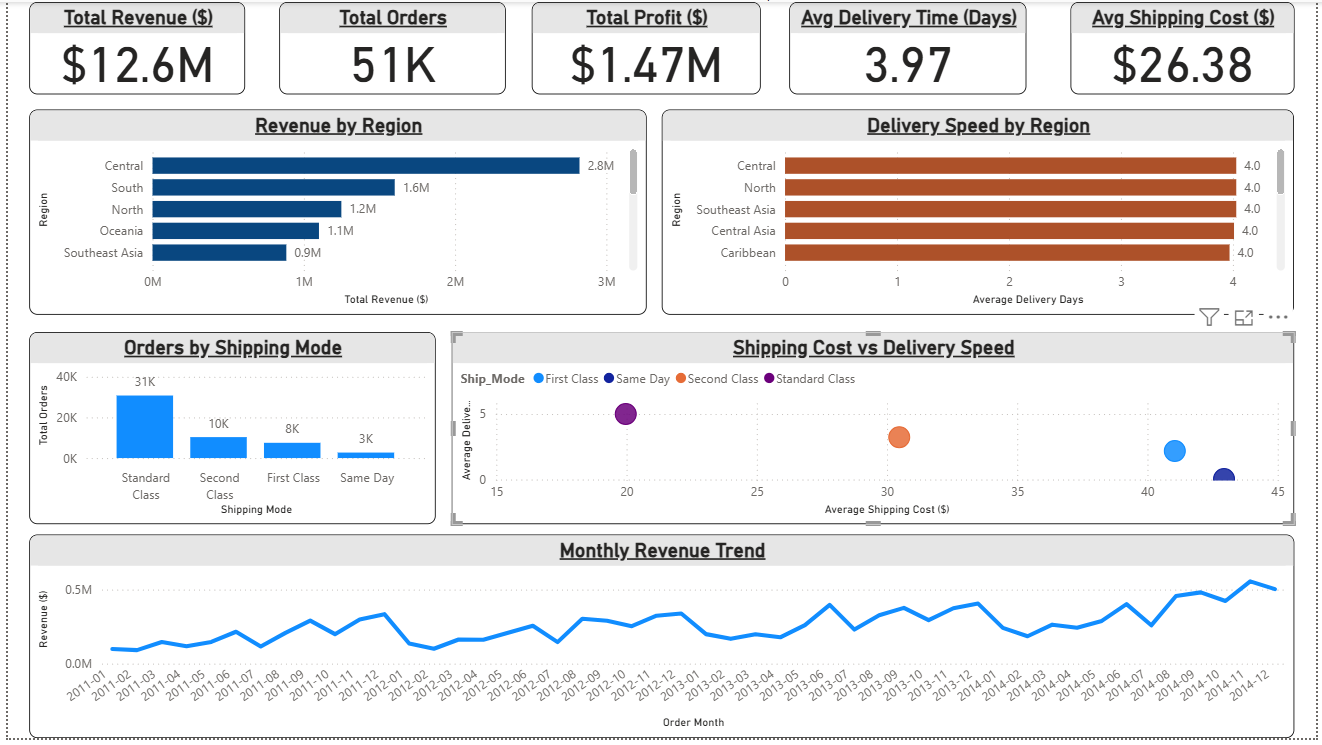

What the dashboard file says about the page in this screenshot:
{"tool":"powerbi","page":{"name":"Global Logistics Performance Overview","canvas":[1280,720],"ordinal":0},"visuals":[{"type":"card","title":"Total Revenue ($)","fields":{"Values":["Sum(KPIs.Total_Revenue)"]},"box":[20.8,0,211.6,90.5],"z":0},{"type":"card","title":"Total Orders","fields":{"Values":["Sum(KPIs.Total_Orders)"]},"box":[265.4,0,221.3,90.5],"z":1000},{"type":"card","title":"Total Profit ($)","fields":{"Values":["Sum(KPIs.Total_Profit)"]},"box":[512.4,0,223.8,90.5],"z":2000},{"type":"card","title":"Avg Delivery Time (Days)","fields":{"Values":["Sum(KPIs.Avg_Delivery_Time)"]},"box":[764.3,0,232.3,90.5],"z":3000},{"type":"card","title":"Avg Shipping Cost ($)","fields":{"Values":["Sum(KPIs.Avg_Shipping_Cost)"]},"box":[1039.4,0,218.9,90.5],"z":4000},{"type":"clusteredBarChart","title":"Revenue by Region","fields":{"Category":["RegionPerformance.Region"],"Y":["Sum(RegionPerformance.Revenue)"]},"box":[20.8,105.2,604.1,200.5],"z":5000},{"type":"clusteredBarChart","title":"Delivery Speed by Region","fields":{"Category":["RegionPerformance.Region"],"Y":["Sum(RegionPerformance.Avg_Delivery_Time)"]},"box":[639.5,105.2,618.8,200.5],"z":6000},{"type":"clusteredColumnChart","title":"Orders by Shipping Mode","fields":{"Category":["ShippingAnalysis.Ship_Mode"],"Y":["Sum(ShippingAnalysis.Orders)"]},"box":[20.8,322.8,397.4,188.3],"z":7000},{"type":"scatterChart","title":"Shipping Cost vs Delivery Speed","fields":{"X":["ShippingAnalysis.Avg_Shipping_Cost"],"Y":["ShippingAnalysis.Avg_Delivery_Time"],"Size":["CountNonNull(ShippingAnalysis.Orders)"],"Series":["ShippingAnalysis.Ship_Mode"]},"box":[434.1,322.8,824.2,188.3],"z":8000},{"type":"lineChart","title":"Monthly Revenue Trend","fields":{"Y":["Sum(MonthlyTrend.Revenue)"],"Category":["MonthlyTrend.YearMonth"]},"box":[20.8,520.9,1237.5,199.3],"z":9000}]}

Visuals, with their boxes in screenshot pixels (x1, y1, x2, y2), scaled from the page's 1280x720 canvas onto the 1322x745 screenshot:
"Total Revenue ($)" card: left=21, top=0, right=240, bottom=94
"Total Orders" card: left=274, top=0, right=503, bottom=94
"Total Profit ($)" card: left=529, top=0, right=760, bottom=94
"Avg Delivery Time (Days)" card: left=789, top=0, right=1029, bottom=94
"Avg Shipping Cost ($)" card: left=1074, top=0, right=1300, bottom=94
"Revenue by Region" clusteredBarChart: left=21, top=109, right=645, bottom=316
"Delivery Speed by Region" clusteredBarChart: left=660, top=109, right=1300, bottom=316
"Orders by Shipping Mode" clusteredColumnChart: left=21, top=334, right=432, bottom=529
"Shipping Cost vs Delivery Speed" scatterChart: left=448, top=334, right=1300, bottom=529
"Monthly Revenue Trend" lineChart: left=21, top=539, right=1300, bottom=744
